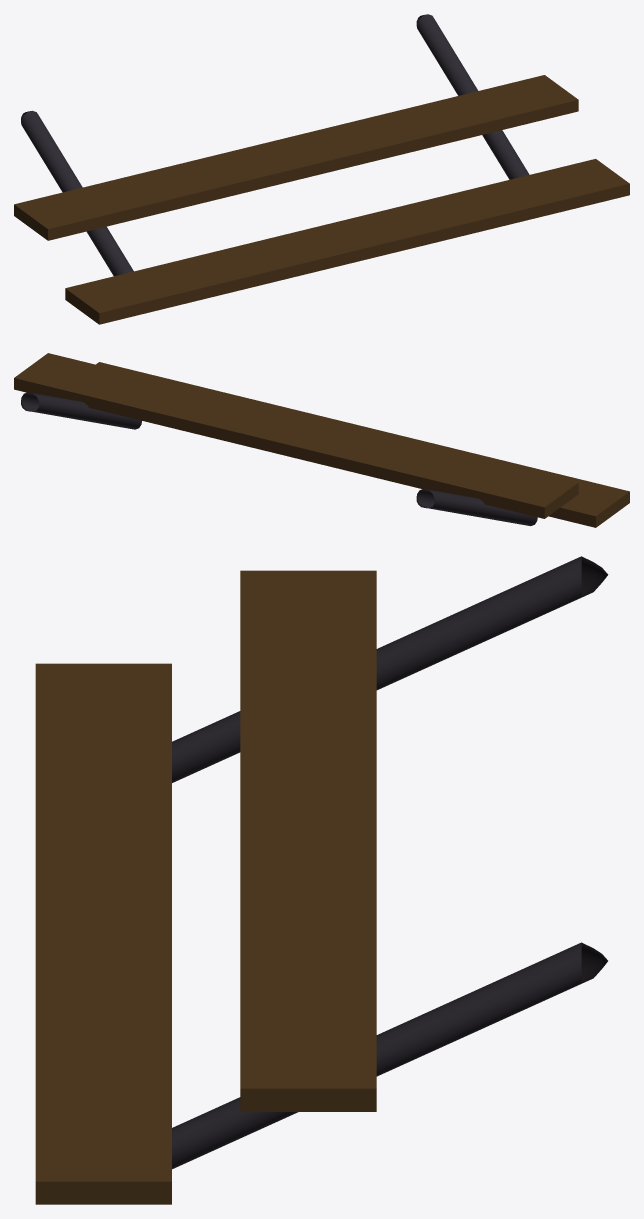
File: CA_023_wooden_stairs.glb
The picture shows the model from 3 angles, top to bottom: view 1: azimuth 30°, elevation 25°; view 2: azimuth 150°, elevation 25°; view 3: azimuth 270°, elevation 25°; orthographic projection. The views are drawn at different scales.
Parts seen in each view (by area): view 1: wooden_planks, support_bars; view 2: wooden_planks, support_bars; view 3: wooden_planks, support_bars.
Boxes of the visible parts, x1,y1,x2,y2 form: wooden_planks: (14, 75, 629, 324); support_bars: (21, 14, 529, 276); wooden_planks: (14, 353, 629, 527); support_bars: (21, 392, 537, 526); wooden_planks: (35, 570, 376, 1204); support_bars: (172, 556, 608, 1169).
Size of the model in its own units: 2.24 by 0.4496 by 1.05.
